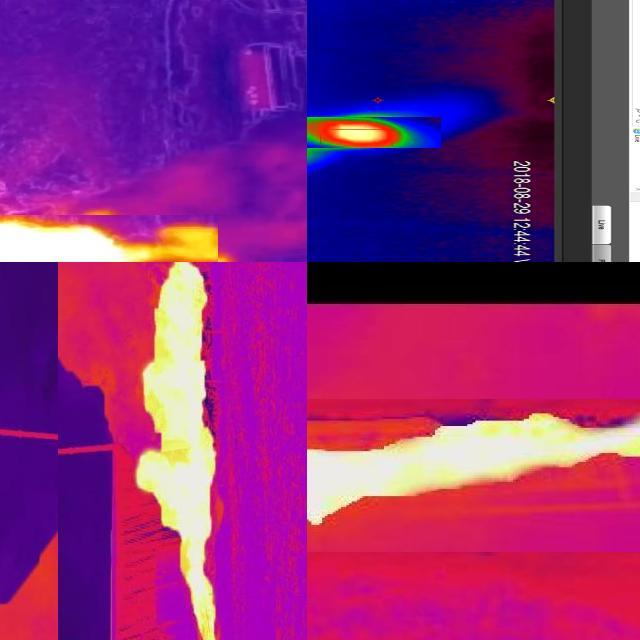fire: (58, 263, 276, 640), (308, 400, 640, 553), (1, 216, 218, 263), (308, 118, 441, 149)
